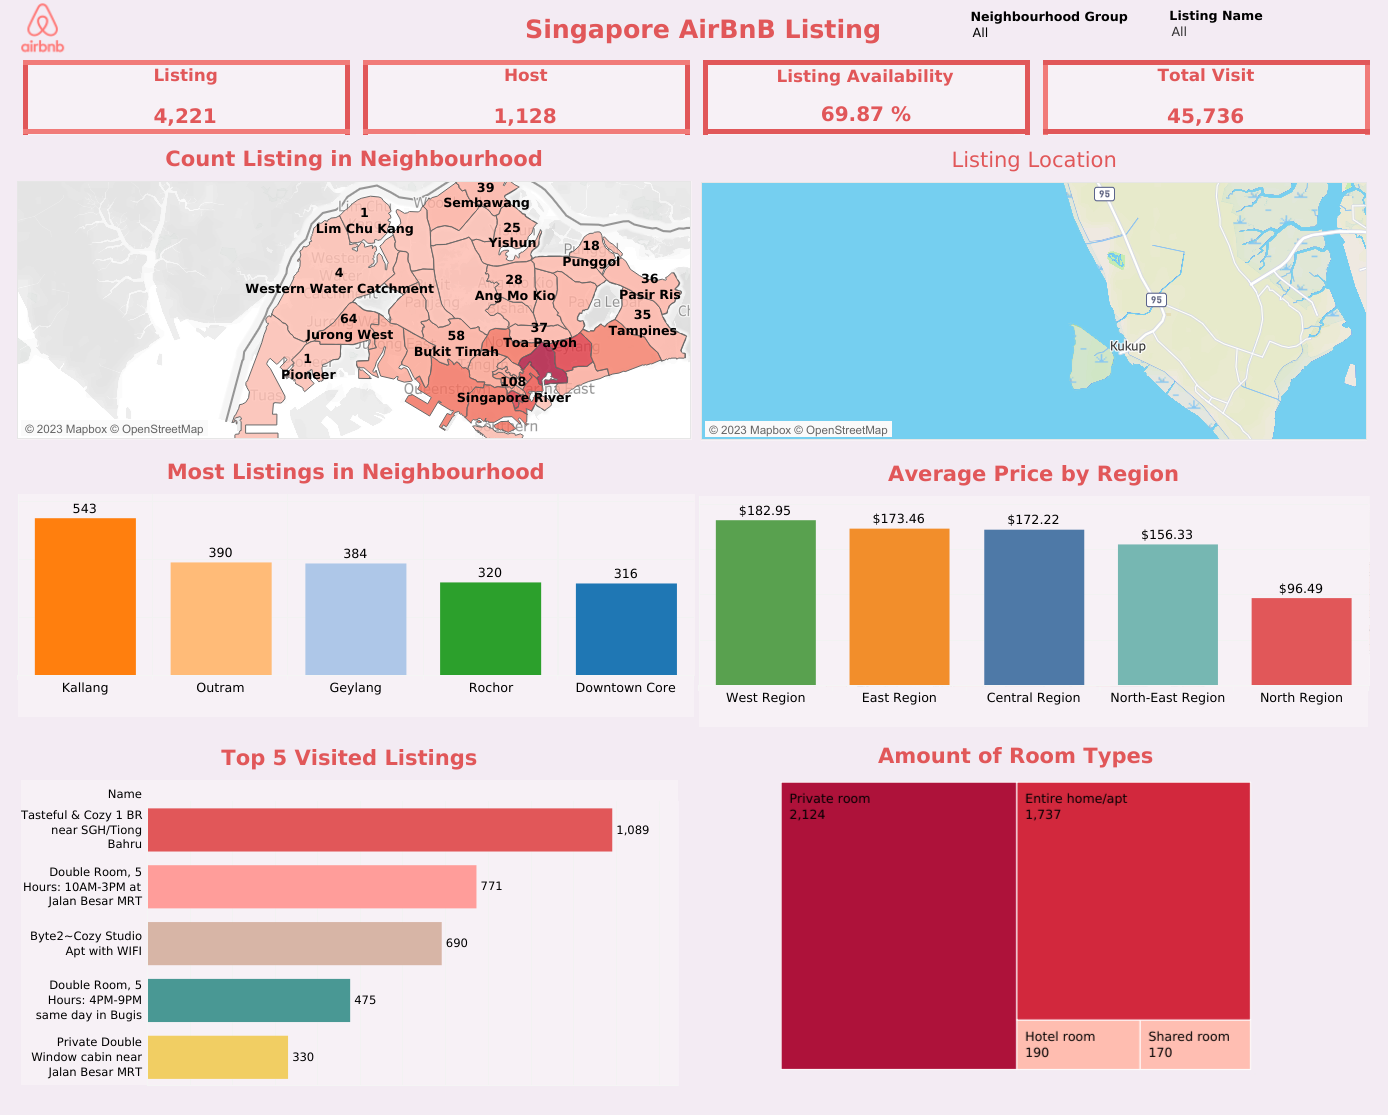

Layout of this report page (visuals, bound fields, positions):
{"tool":"tableau","page":{"name":"Dashboard 2","canvas":[1000,1000],"units":"permille","ordinal":1},"visuals":[{"type":"filter","title":"Listing Availability rate","param":"[federated.19dz3ky0p0h79i1aq4fj31oqq4cj].[none:name:nk]","box":[842,5.7,150,49.1]},{"type":"title","box":[16.1,6.6,980.4,38.7]},{"type":"filter","title":"Count listing","param":"[federated.19dz3ky0p0h79i1aq4fj31oqq4cj].[none:neighbourhood_group:nk]","box":[698.2,6.6,142.9,39.6]},{"type":"worksheet","title":"Total listing card","mark":"Automatic","box":[12.1,48.1,244.8,78.3]},{"type":"worksheet","title":"Total host","mark":"Automatic","box":[256.9,48.1,244.8,78.3]},{"type":"worksheet","title":"Listing Availability rate","mark":"Automatic","box":[501.6,48.1,244.8,78.3]},{"type":"worksheet","title":"Total visit of listing","mark":"Automatic","box":[746.4,48.1,244.7,78.3]},{"type":"worksheet","title":"Count listing","mark":"Automatic","box":[12.1,125.5,485.5,268.9]},{"type":"worksheet","title":"Listing","mark":"Automatic","box":[504.9,126.4,479,268.9]},{"type":"worksheet","title":"Neighbourhood with most listings","mark":"Automatic","rows":["listings_AC3024B18A8E45CCAD92D0E832254B95"],"cols":["neighbourhood"],"box":[12.9,405.7,486.3,236.8]},{"type":"worksheet","title":"Average price ","mark":"Automatic","rows":["price"],"cols":["neighbourhood_group"],"box":[503.2,407.6,481.4,244.3]},{"type":"worksheet","title":"Sheet 25","mark":"Automatic","box":[559,660.4,420,302.8]},{"type":"worksheet","title":"Top 5 visited listings","mark":"Automatic","rows":["name"],"cols":["Calculation_1276770543379193859"],"box":[15.3,662.3,472.5,316]}]}

Visuals, with their boxes on the dashboard's canvas, which has no fixed pixel size, in thousandths of its width and height (x1, y1, x2, y2). These are canvas units, not pixel positions in the 1388x1115 screenshot, which may show the page scaled, cropped or inside an application window:
"Listing Availability rate" filter: bbox=(842, 6, 992, 55)
title: bbox=(16, 7, 996, 45)
"Count listing" filter: bbox=(698, 7, 841, 46)
"Total listing card" worksheet: bbox=(12, 48, 257, 126)
"Total host" worksheet: bbox=(257, 48, 502, 126)
"Listing Availability rate" worksheet: bbox=(502, 48, 746, 126)
"Total visit of listing" worksheet: bbox=(746, 48, 991, 126)
"Count listing" worksheet: bbox=(12, 126, 498, 394)
"Listing" worksheet: bbox=(505, 126, 984, 395)
"Neighbourhood with most listings" worksheet: bbox=(13, 406, 499, 642)
"Average price " worksheet: bbox=(503, 408, 985, 652)
"Sheet 25" worksheet: bbox=(559, 660, 979, 963)
"Top 5 visited listings" worksheet: bbox=(15, 662, 488, 978)
